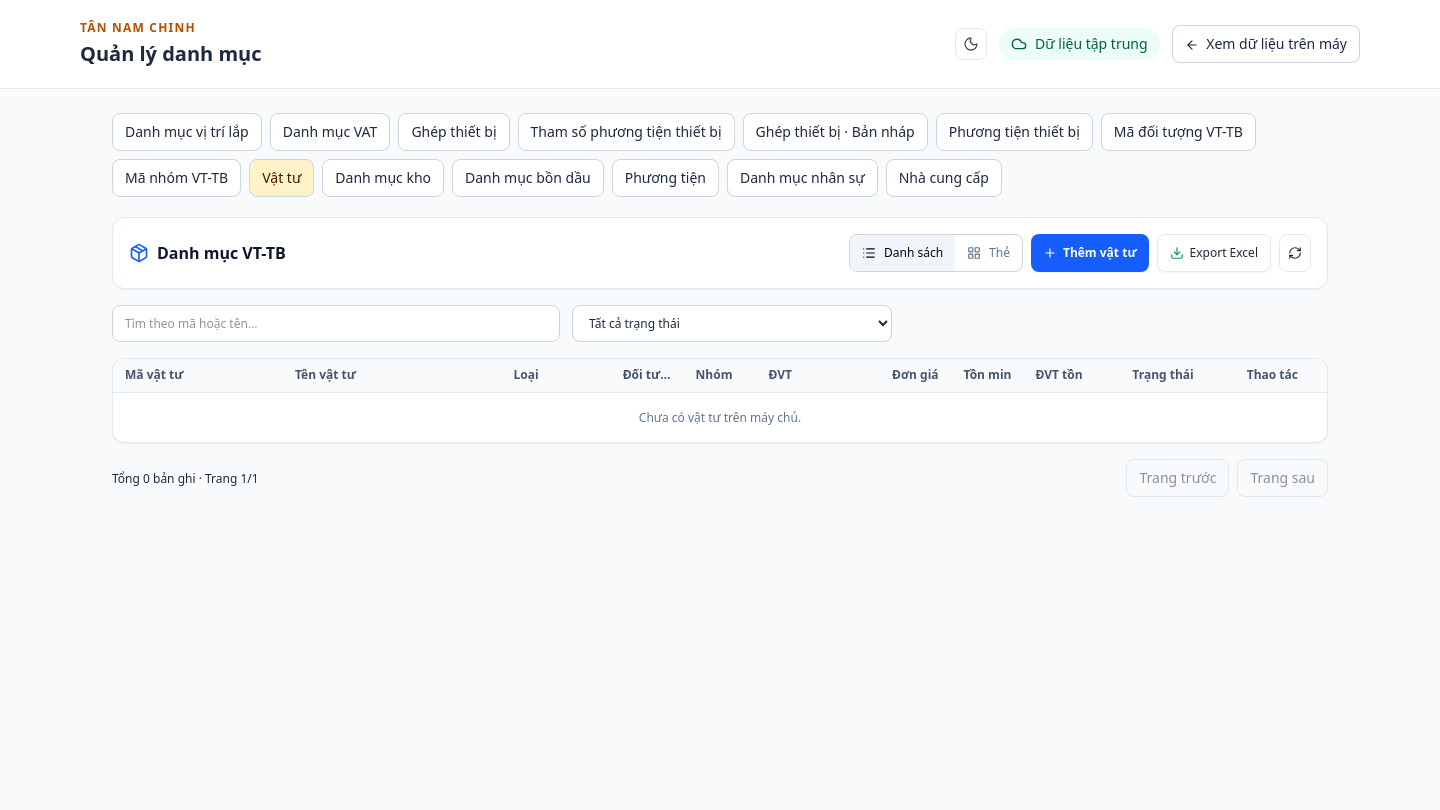
Test: create confirms save only after the server responds and blocks duplicate submits
Expected: the text "Chưa có vật tư trên máy chủ." is shown, [113,392,1327,442]
Click the button "Thêm vật tư" at (1090, 253), box [1031,234,1148,272]
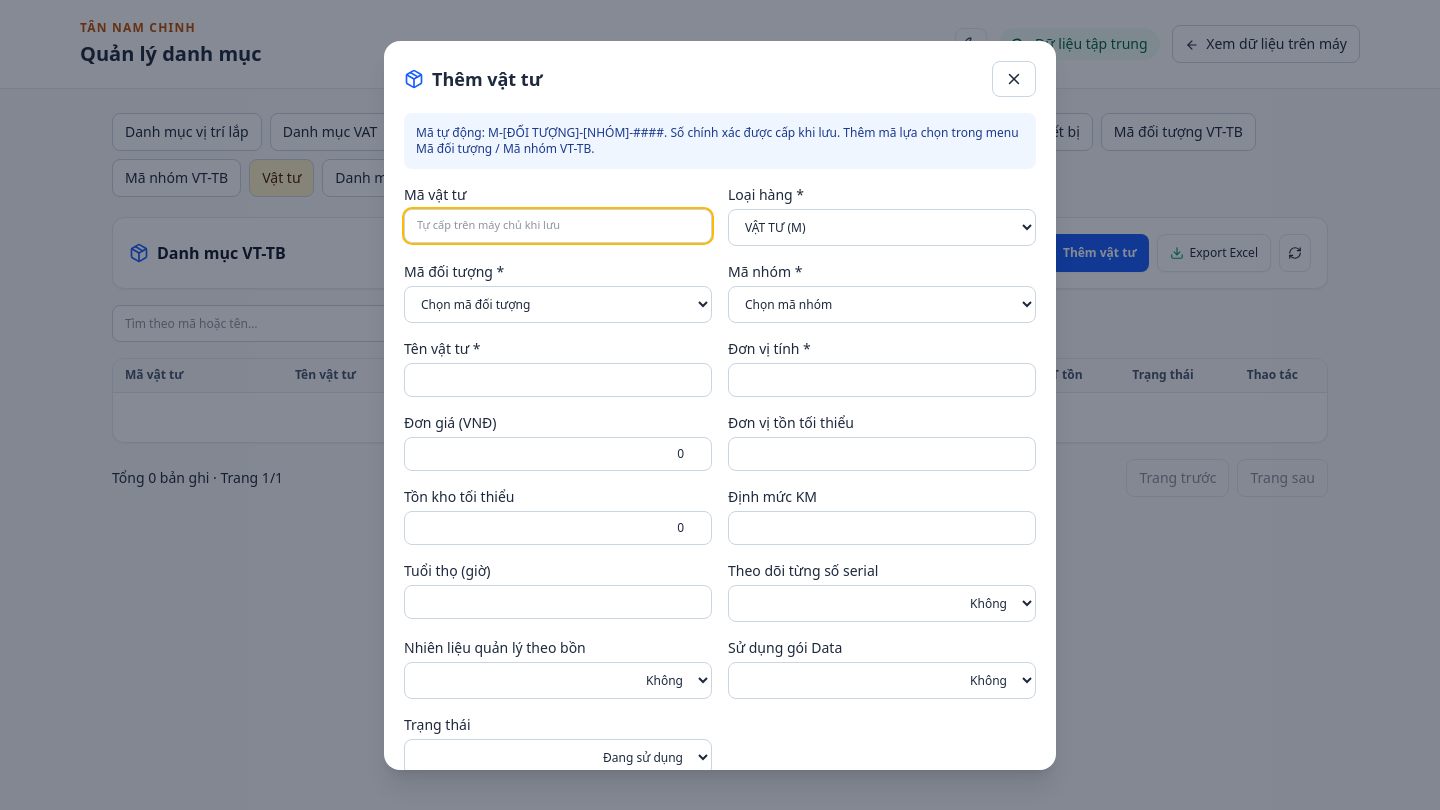
Select "IN — Đối tượng thử" in the dropdown labelled "Mã đối tượng *" at (558, 304), box [404,286,712,322]
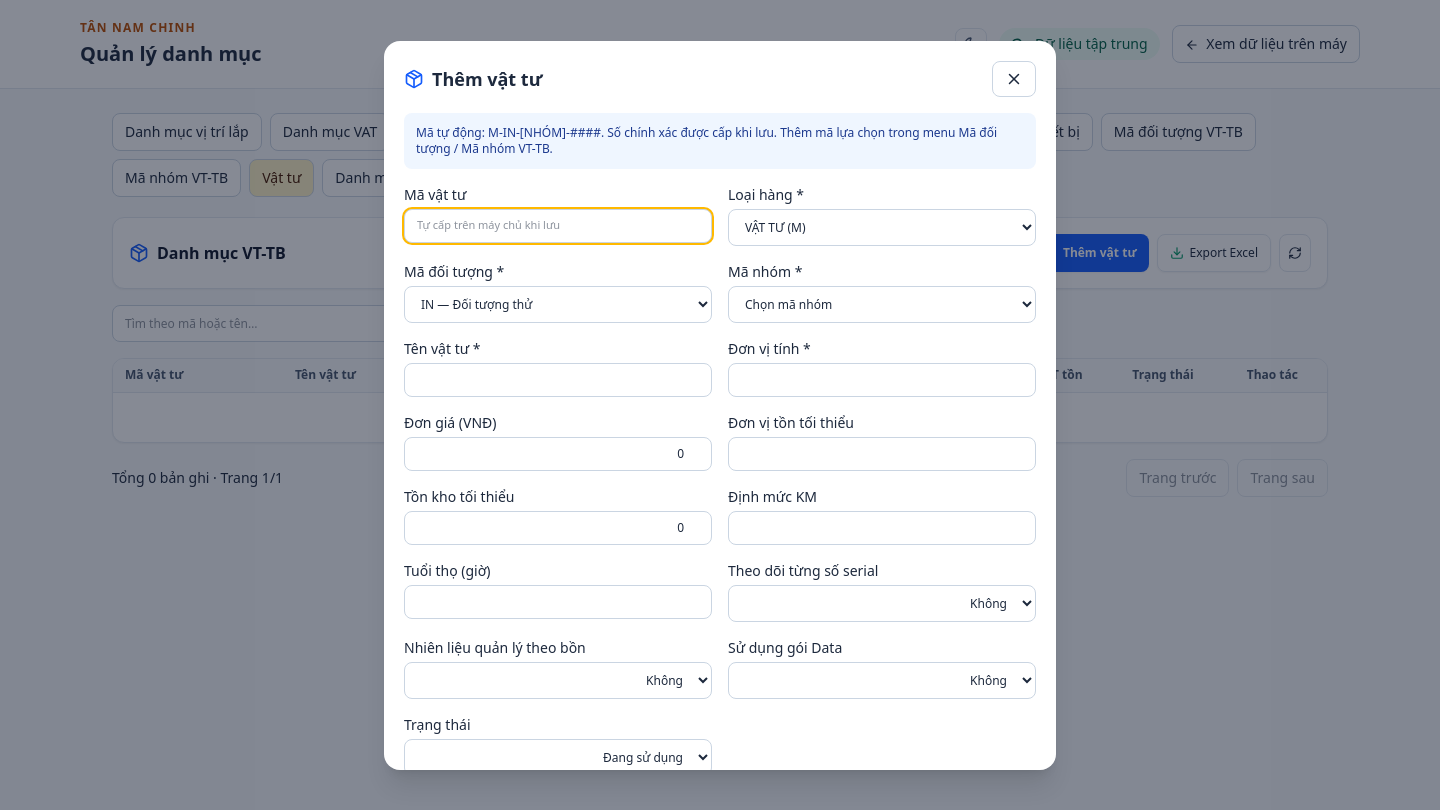
Select "TDONG — Nhóm thử" in the dropdown labelled "Mã nhóm *" at (882, 304), box [728,286,1036,322]
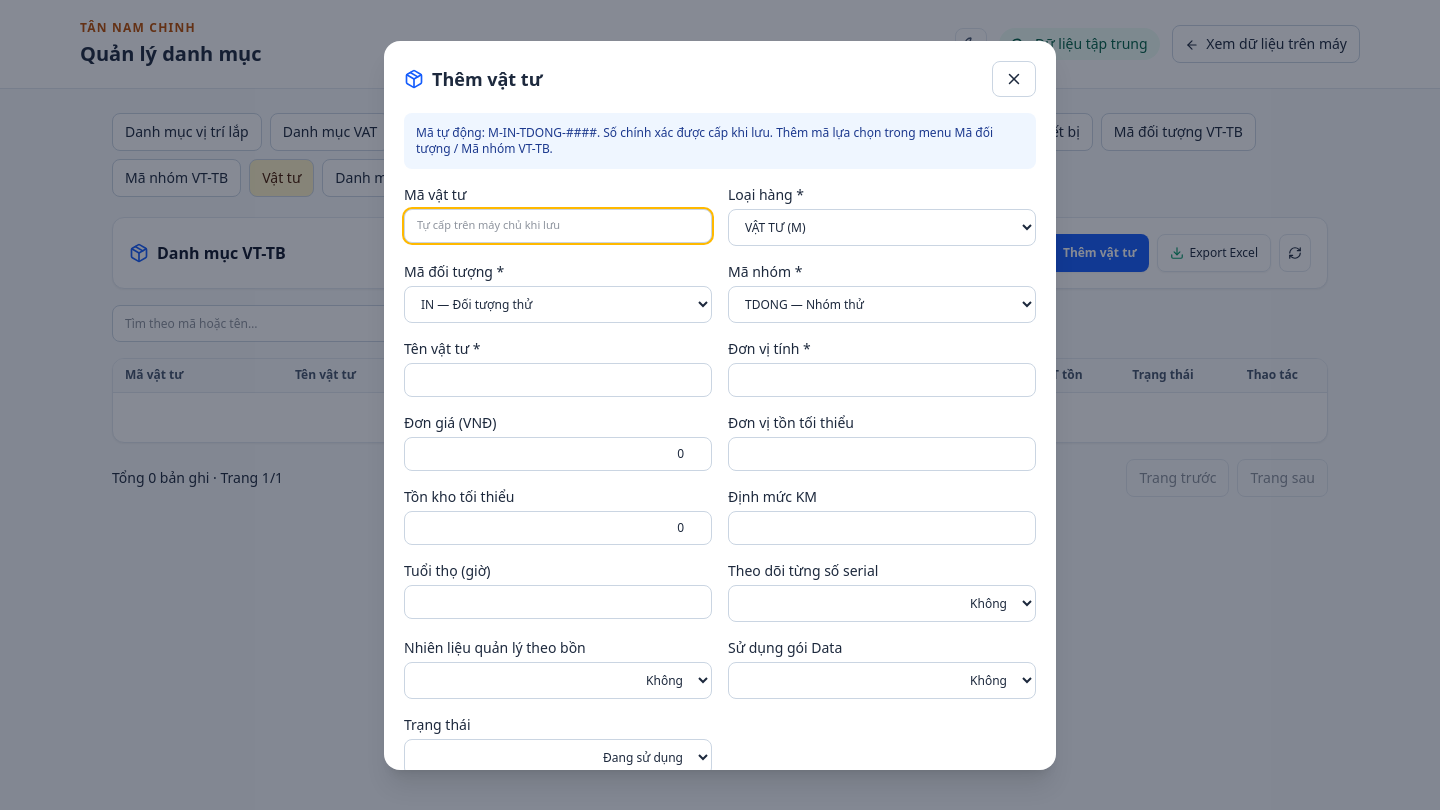
Type "Mới" into the field labelled "Tên vật tư *" at (558, 380), box [404,362,712,396]
Type "Cái" into the field labelled "Đơn vị tính *" at (882, 380), box [728,362,1036,396]
(page scrolled)
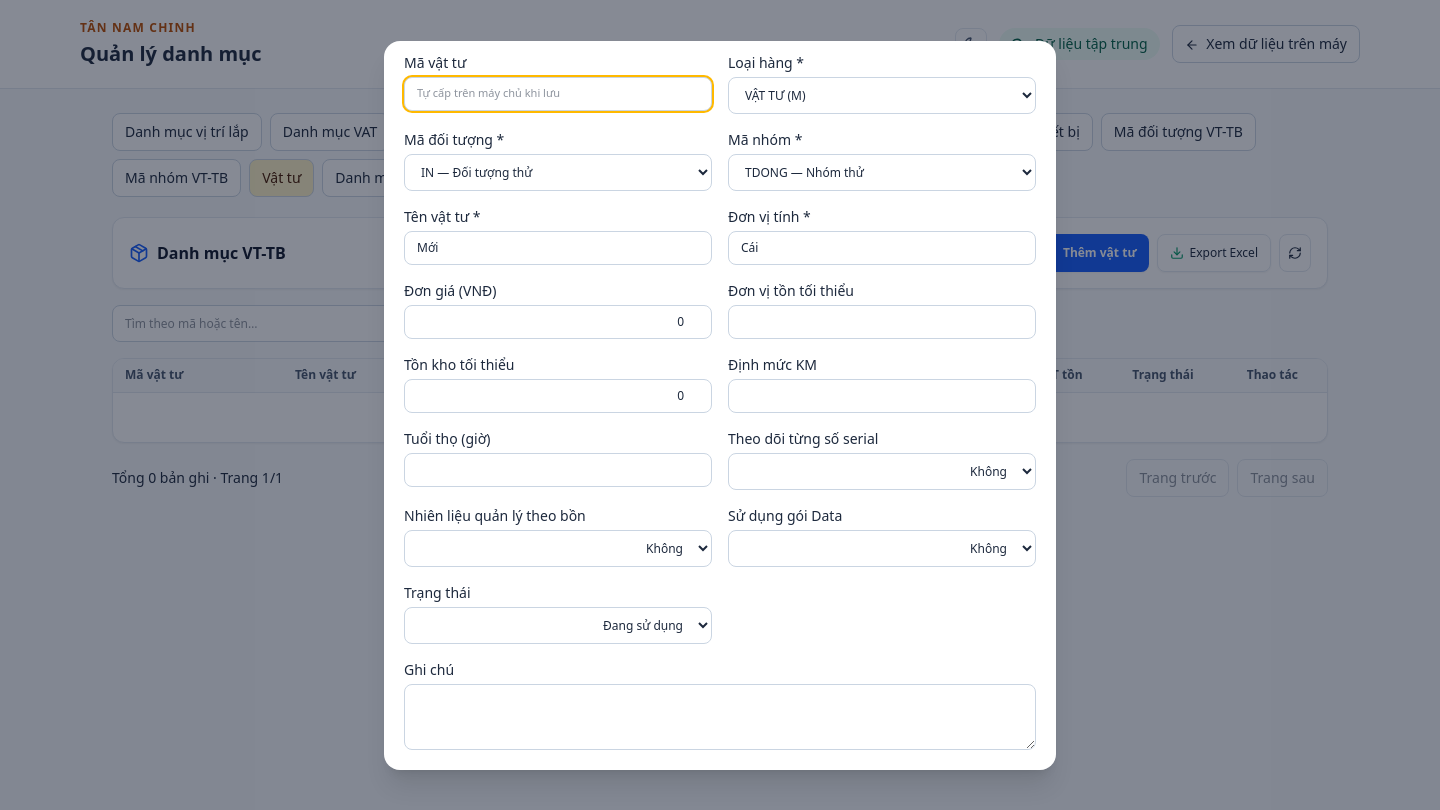
Submit the form
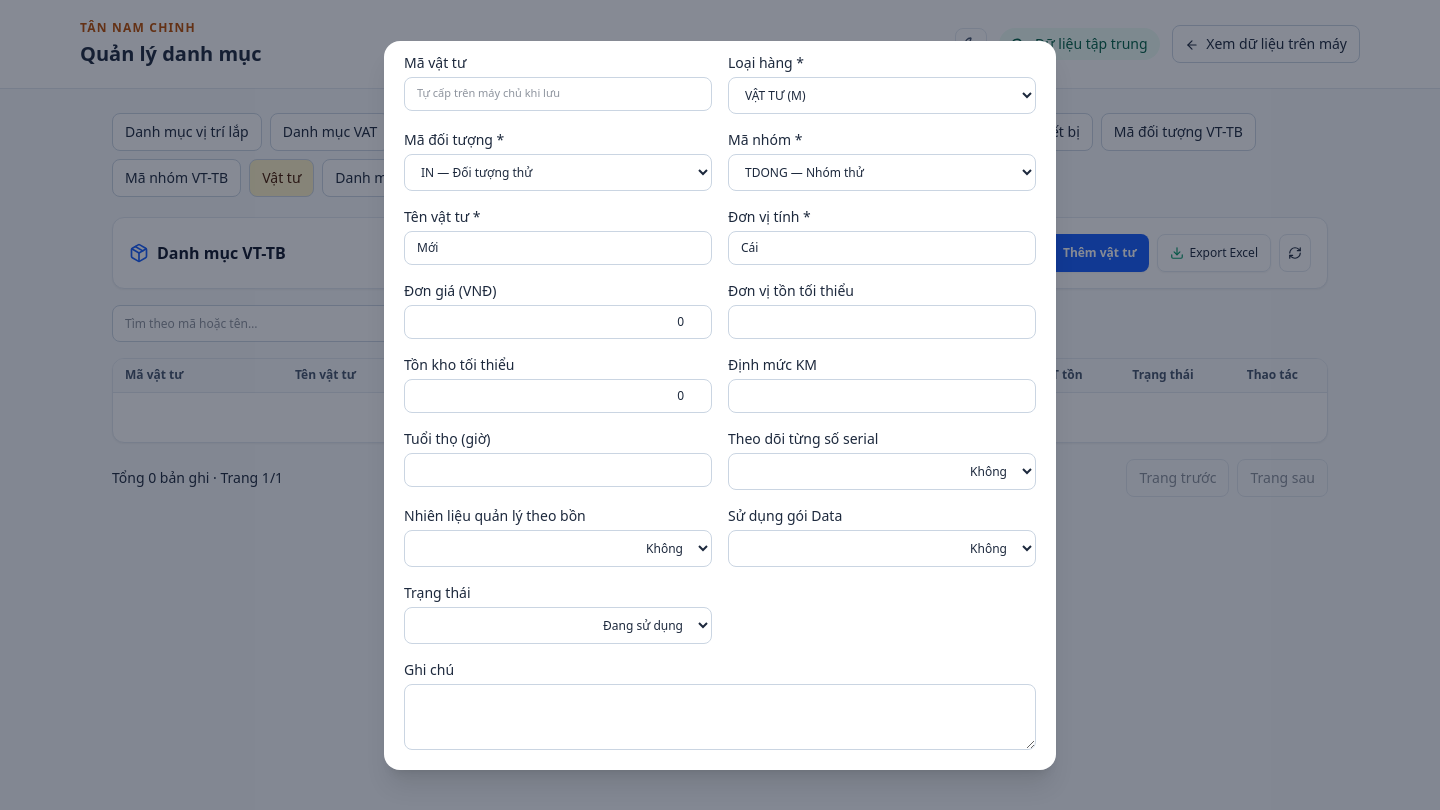
Submit the form
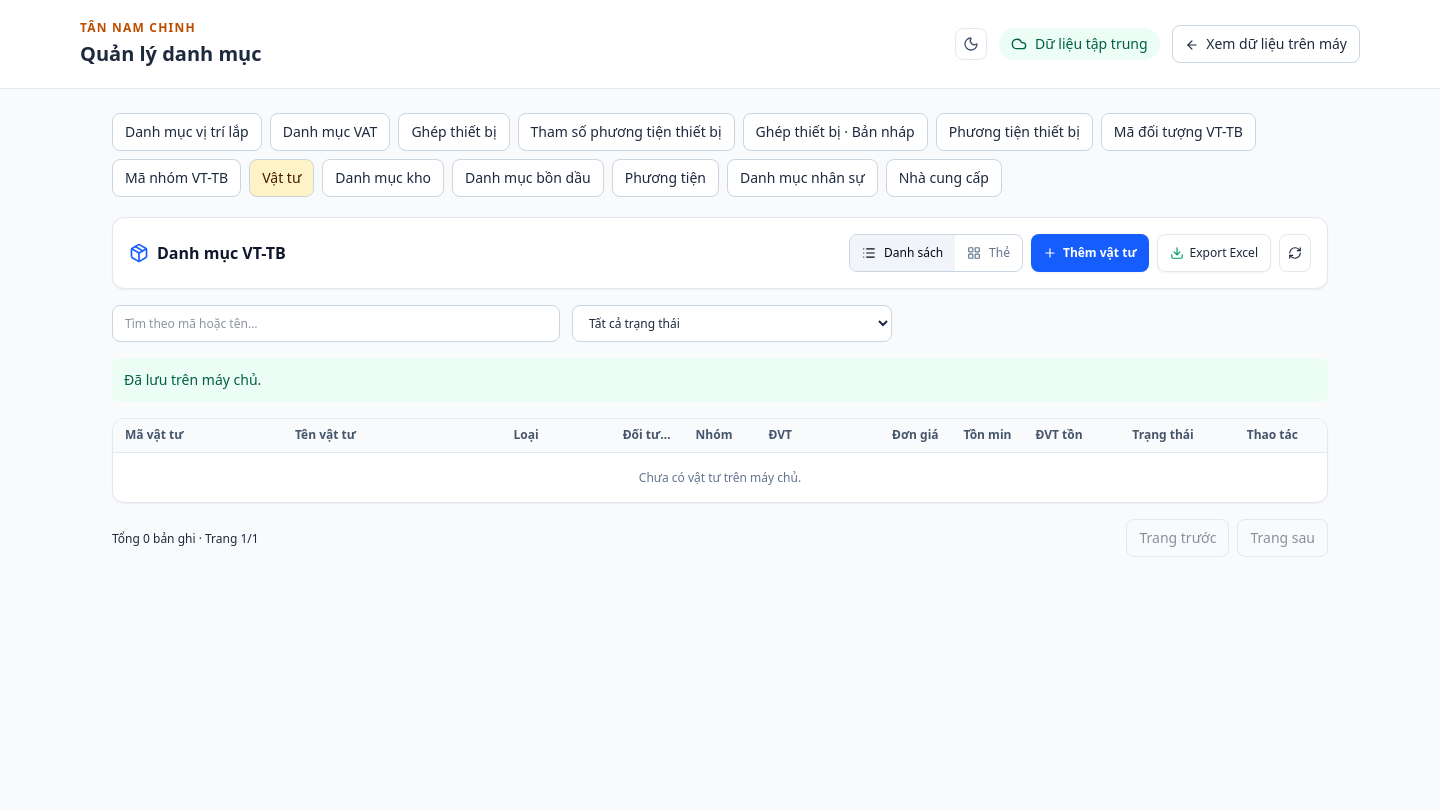
Now the text "Đã lưu trên máy chủ." is shown, box [112,358,1328,402]
Now the dialog is gone
